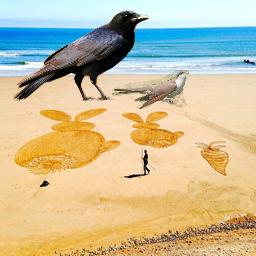Crow: (13, 9, 149, 101)
Cuckoo: (112, 70, 189, 109)
